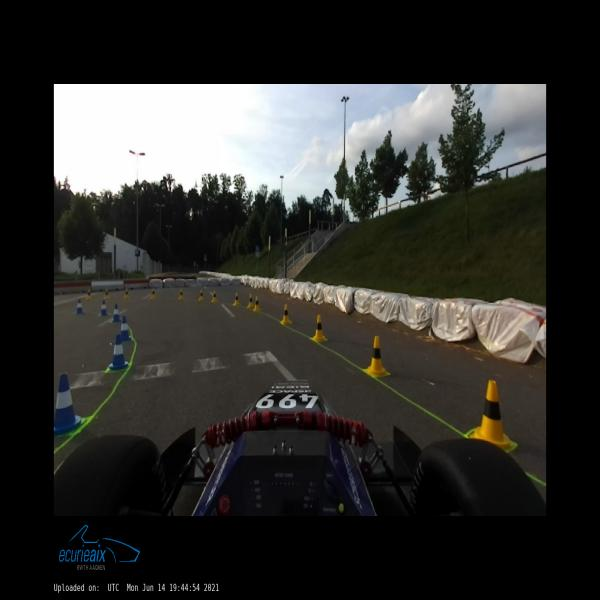blue_cone: (54, 373, 87, 437), (108, 334, 130, 371), (120, 315, 132, 340), (112, 304, 121, 322), (100, 300, 108, 316), (76, 299, 83, 314)
yellow_cone: (470, 380, 513, 449), (365, 336, 388, 376), (312, 315, 326, 341), (282, 303, 290, 322), (253, 296, 261, 311), (247, 294, 254, 308), (233, 292, 240, 305), (212, 290, 218, 302), (199, 290, 204, 300), (124, 288, 129, 298), (104, 288, 109, 298), (179, 289, 183, 299), (152, 288, 156, 298), (87, 289, 91, 299)
